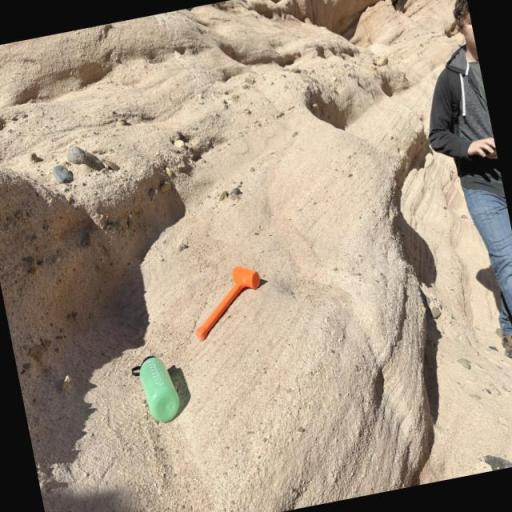bottle: (130, 352, 183, 427)
mallet: (184, 262, 270, 342)
